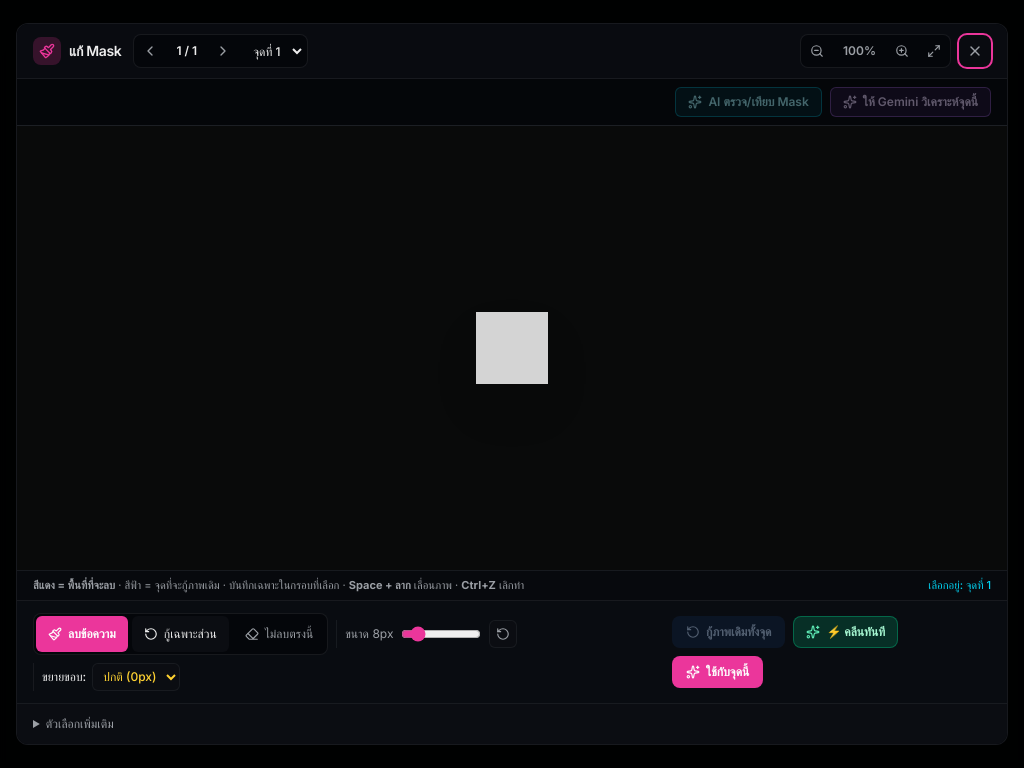
it: MaskEditor › Clean Now makes one proposal refresh and keeps the editor open when no pixels exist
This screenshot has width=1024, height=768.
Click the button "ใช้กับจุดนี้". click: (718,672)
box: top-left (672, 656), bottom-right (763, 688)
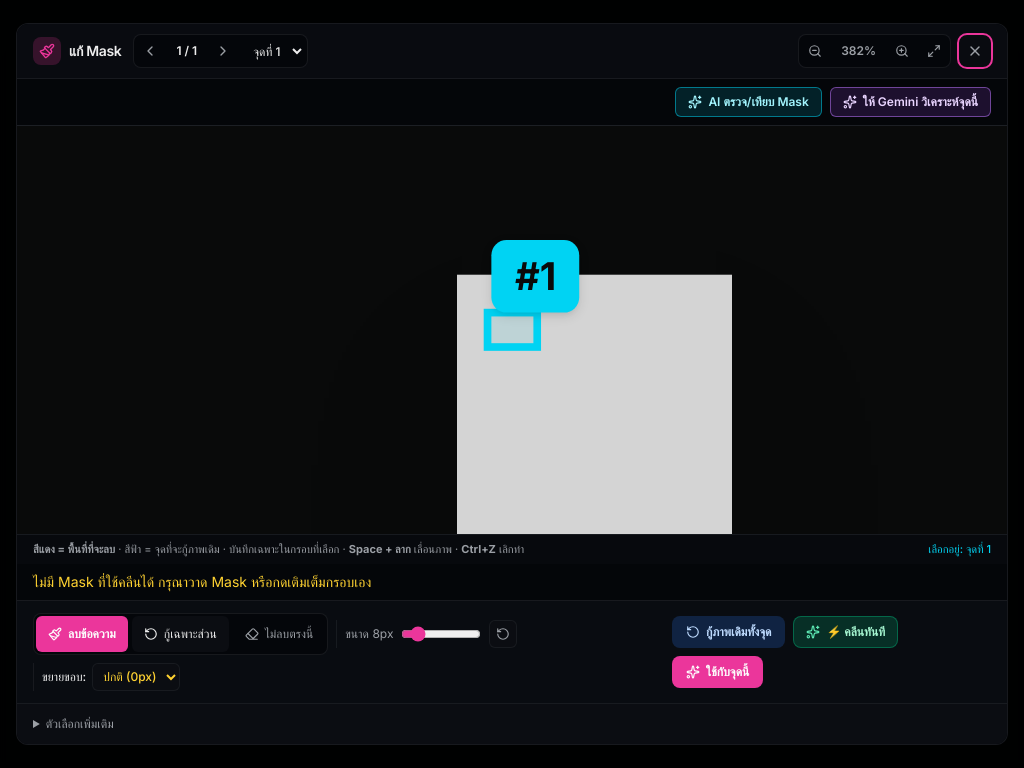
Check: the message shows "กรุณาวาด Mask หรือกดเติมเต็มกรอบเอง", box top-left (33, 573), bottom-right (371, 590)
